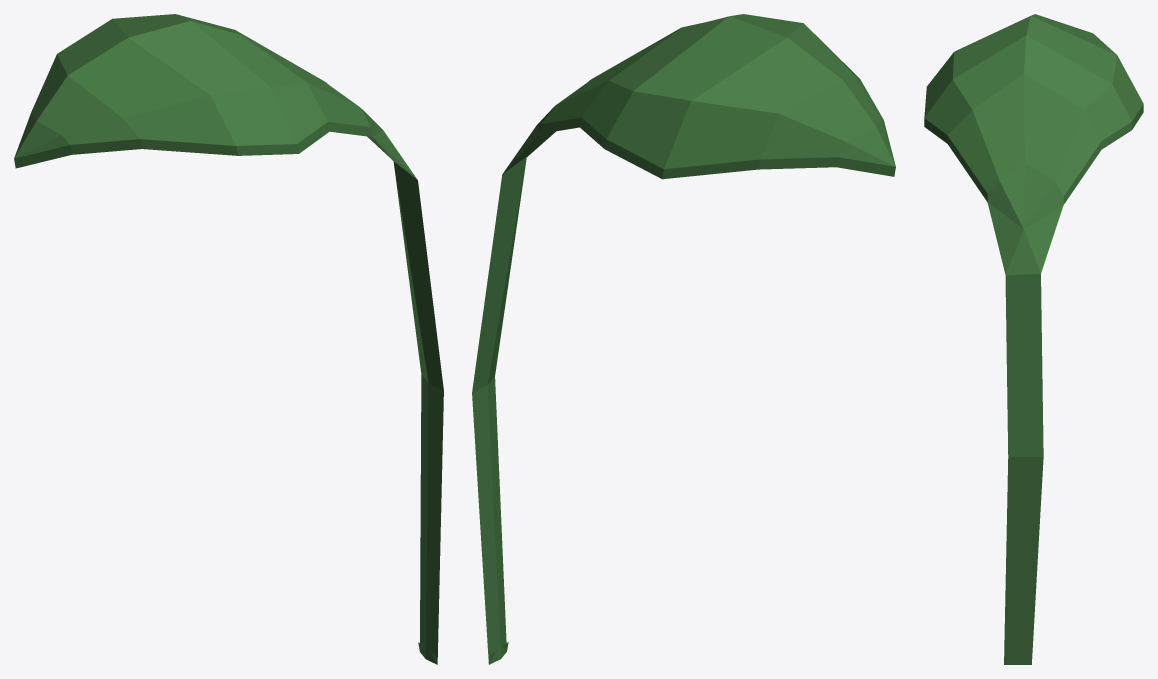
The model's file is weedplant02.gltf.
3 renders of one model, left to right at view 1: azimuth 30°, elevation 25°; view 2: azimuth 150°, elevation 25°; view 3: azimuth 270°, elevation 25°, orthographic. The views are drawn at different scales.
Visible parts, largest first — view 1: Plane; view 2: Plane; view 3: Plane.
Boxes of the visible parts, x1,y1,x2,y2 form: Plane: (14,14,443,664); Plane: (472,14,895,664); Plane: (924,14,1143,664).
Size of the model in its own units: 0.3649 by 0.5849 by 0.2151.
1 material, 1 textured.
